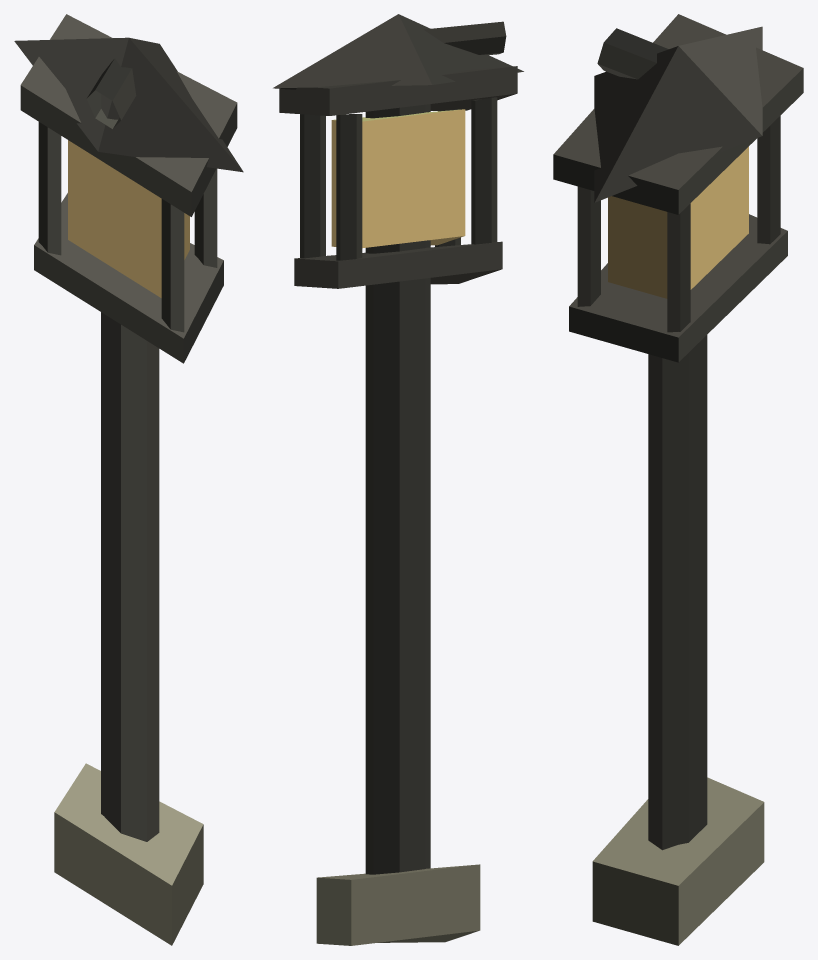
3 views of the same model, side by side, from view 1: azimuth 30°, elevation 25°; view 2: azimuth 150°, elevation 25°; view 3: azimuth 270°, elevation 25° (orthographic). The views are drawn at different scales.
Visible parts, largest first — view 1: 76847644ab5de7071339ad4ee41c9b432eac3372c43b706bf3f0b31ef352; view 2: 76847644ab5de7071339ad4ee41c9b432eac3372c43b706bf3f0b31ef352; view 3: 76847644ab5de7071339ad4ee41c9b432eac3372c43b706bf3f0b31ef352.
Part boxes in pixels (x1,y1,x2,y2): 76847644ab5de7071339ad4ee41c9b432eac3372c43b706bf3f0b31ef352: (14, 14, 243, 945); 76847644ab5de7071339ad4ee41c9b432eac3372c43b706bf3f0b31ef352: (273, 14, 523, 945); 76847644ab5de7071339ad4ee41c9b432eac3372c43b706bf3f0b31ef352: (553, 14, 803, 945).
Size of the model in its own units: 0.9051 by 3.5 by 0.9051.
2 materials, 1 textured.
